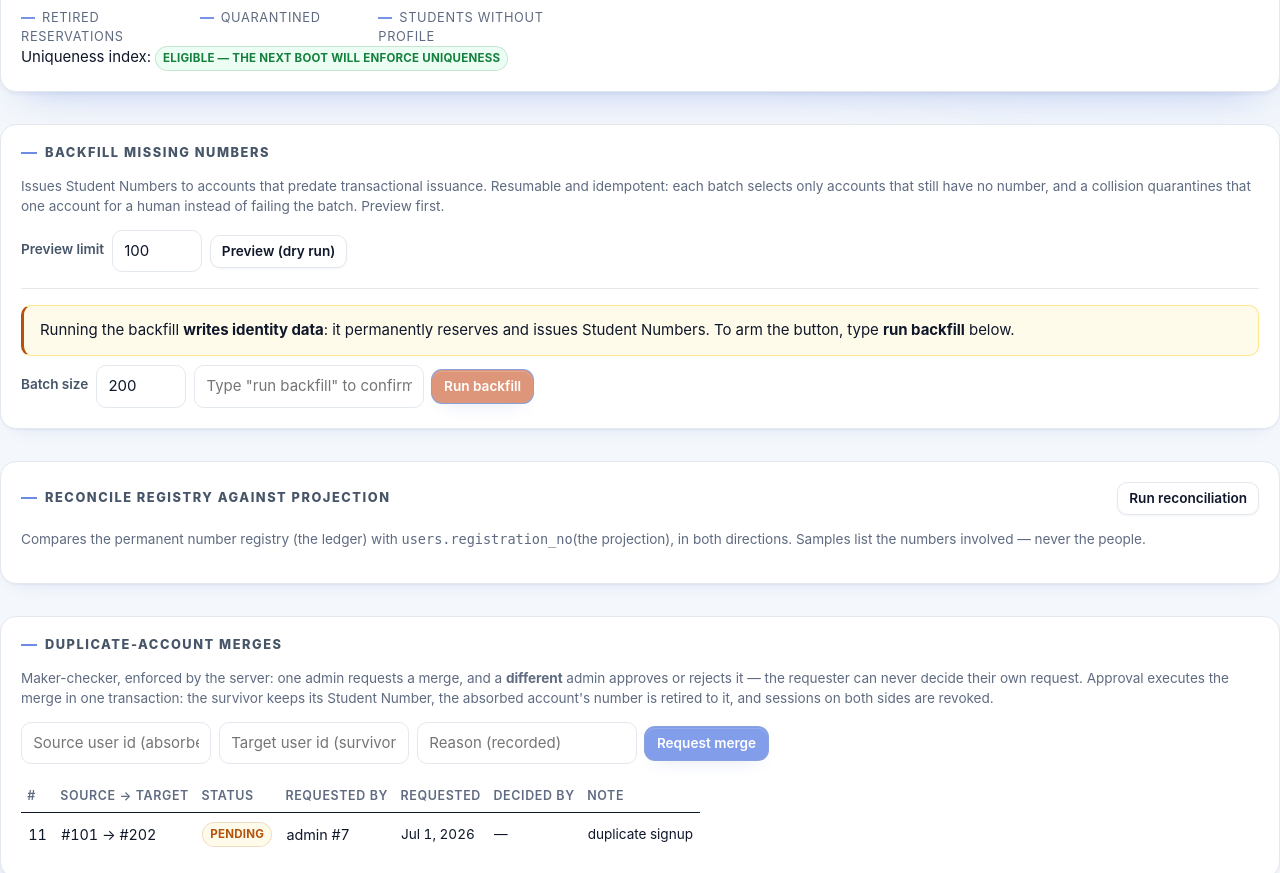
Test: merge queue (maker-checker) › refreshes the queue on a 409 already_decided instead of erroring
(page scrolled)
Click the text "#101 → #202".
click(125, 834)  # box x1=54 y1=812 x2=195 y2=857
(page scrolled)
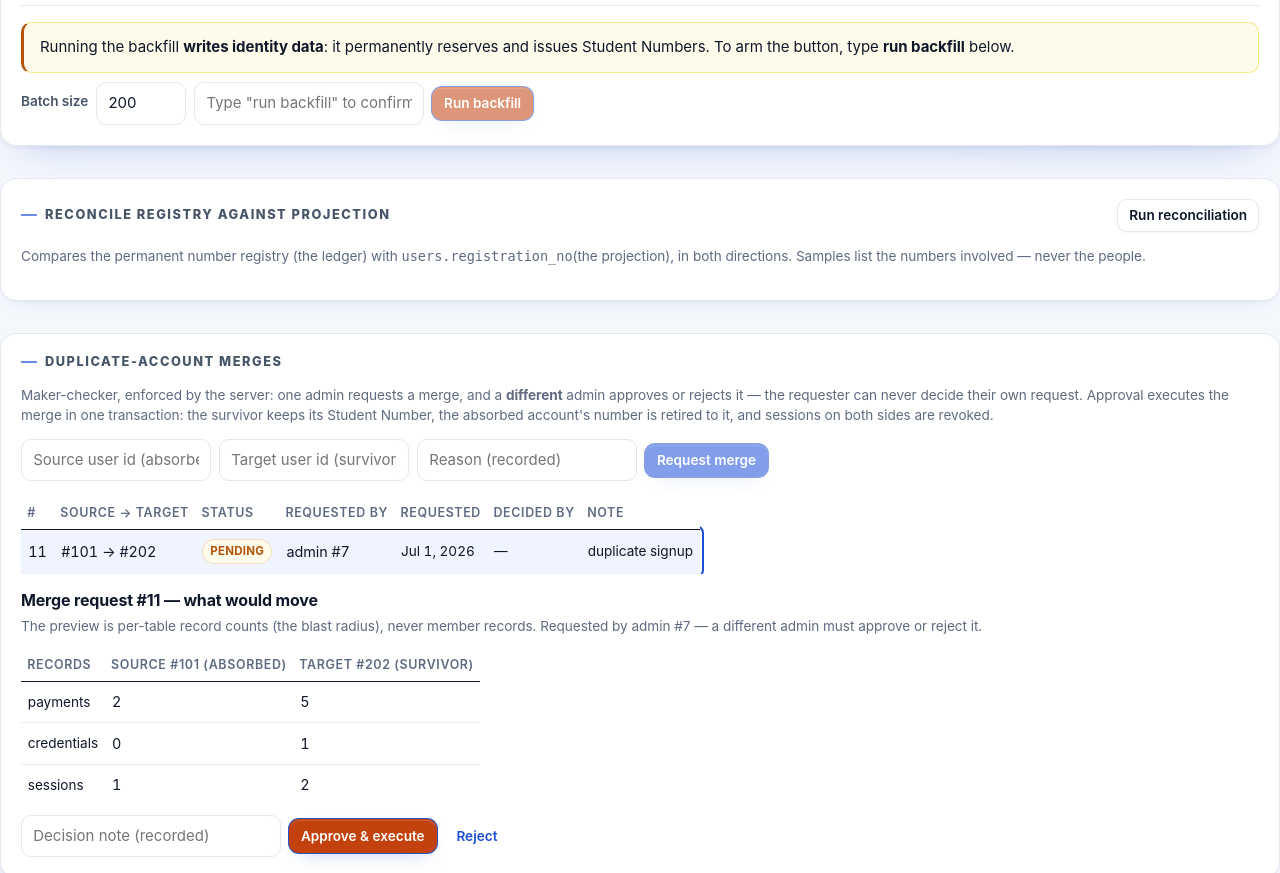
Click the button "Approve & execute".
click(363, 836)  # box x1=289 y1=819 x2=436 y2=853
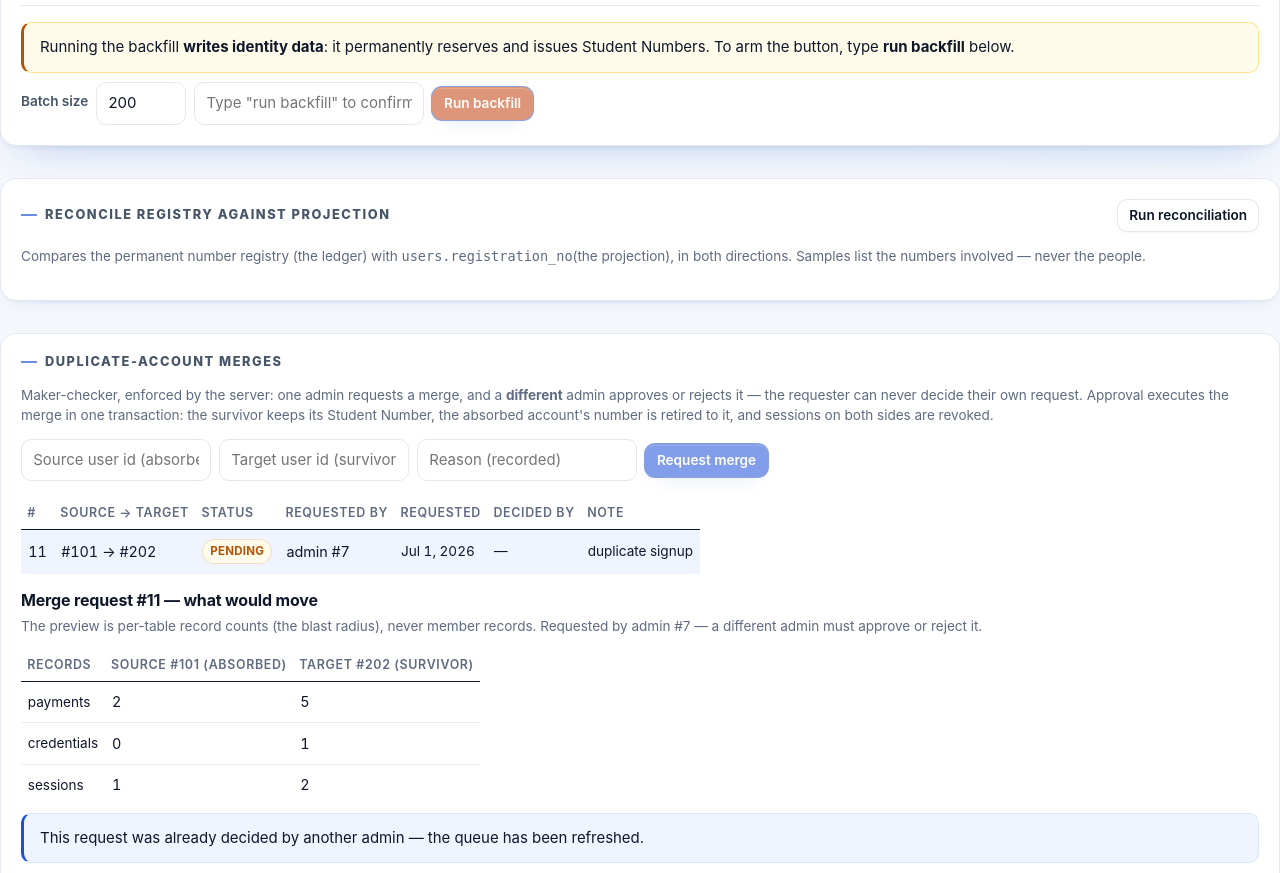
Expected: the text "already decided by another admin — the queue has been refreshed" is shown, x1=40 y1=828 x2=644 y2=847
